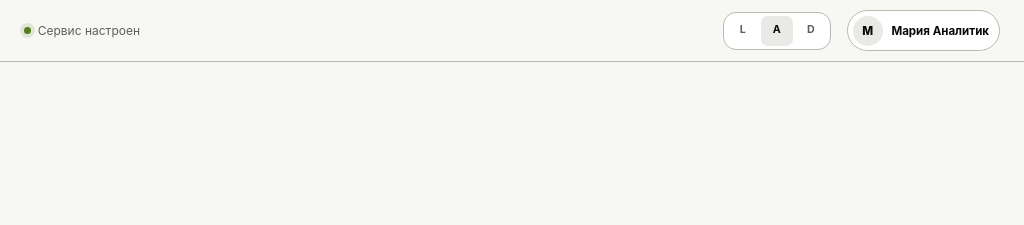
Scenario: Topbar profile › shows browser-safe profile details without raw permission IDs
Click the button "М Мария Аналитик": point(924, 30) [847,10,1000,51]
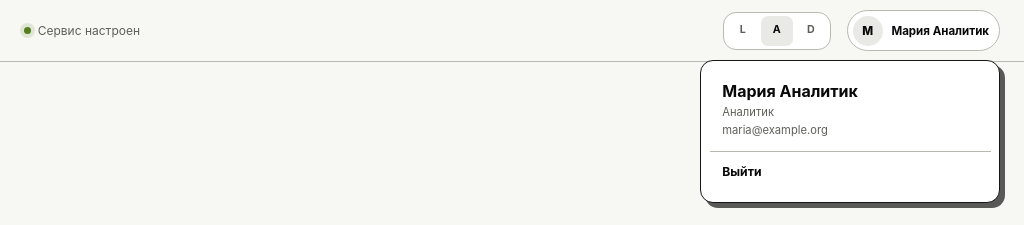
Check: the text "Аналитик" is shown, box [722,105,774,119]
Check: the text "maria@example.org" is shown, box [722,123,828,137]
Check: the menu item "Выйти" is shown, box [710,152,991,194]
